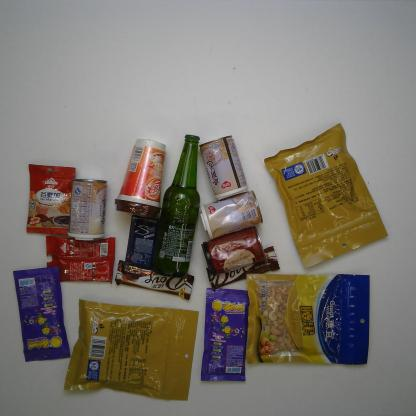Alcohol: (151, 132, 202, 278)
Candy: (11, 264, 75, 366), (196, 285, 253, 385)
Canned Food: (197, 224, 270, 280), (196, 187, 264, 242), (196, 134, 250, 202), (65, 177, 109, 242)
Chocolate: (110, 258, 196, 304), (204, 244, 282, 294)
Dried Fruit: (261, 118, 393, 270), (61, 296, 202, 404), (242, 272, 376, 374)
Gum: (123, 210, 163, 276)
Instant Drink: (113, 136, 169, 221), (24, 160, 79, 237), (43, 233, 118, 286)
